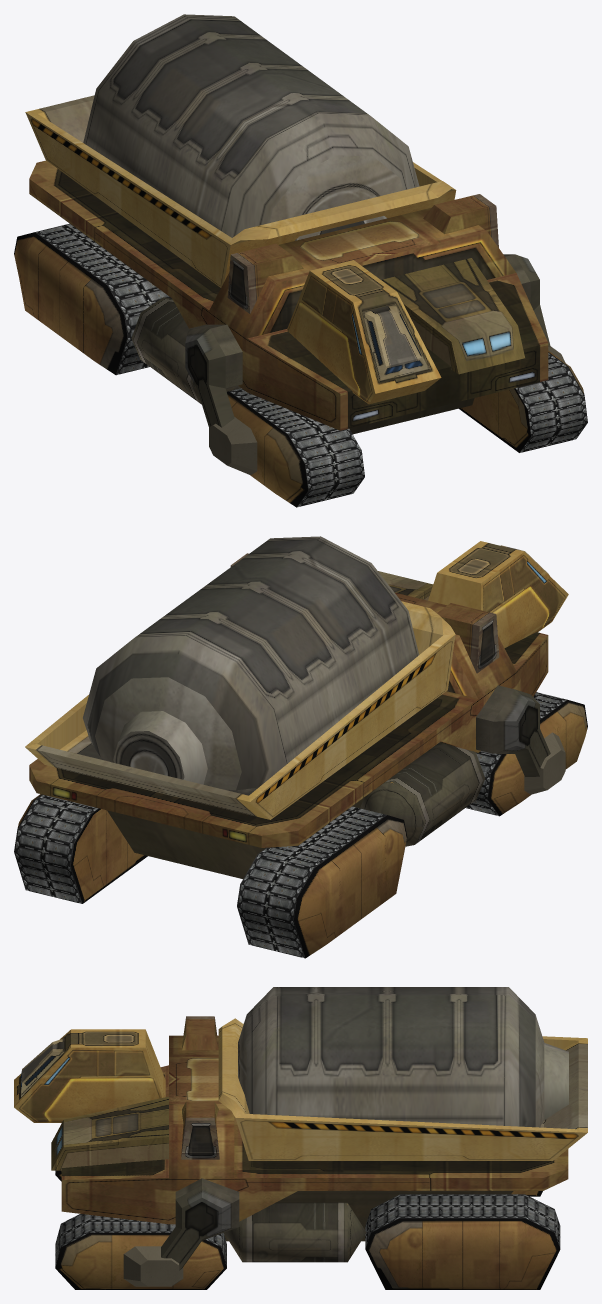
File: doodad_giant_trawler_1.fbx
The picture shows the model from 3 angles, top to bottom: view 1: azimuth 30°, elevation 25°; view 2: azimuth 150°, elevation 25°; view 3: azimuth 270°, elevation 25°; orthographic projection. The views are drawn at different scales.
Parts seen in each view (by area): view 1: body; view 2: body; view 3: body.
Part boxes in pixels (left/top/right/bottom): body: left=14, top=14, right=587, bottom=507; body: left=14, top=536, right=587, bottom=958; body: left=14, top=987, right=587, bottom=1289.
Size of the model in its own units: 2.05 by 1.61 by 3.55.
2 materials, 2 textured.
